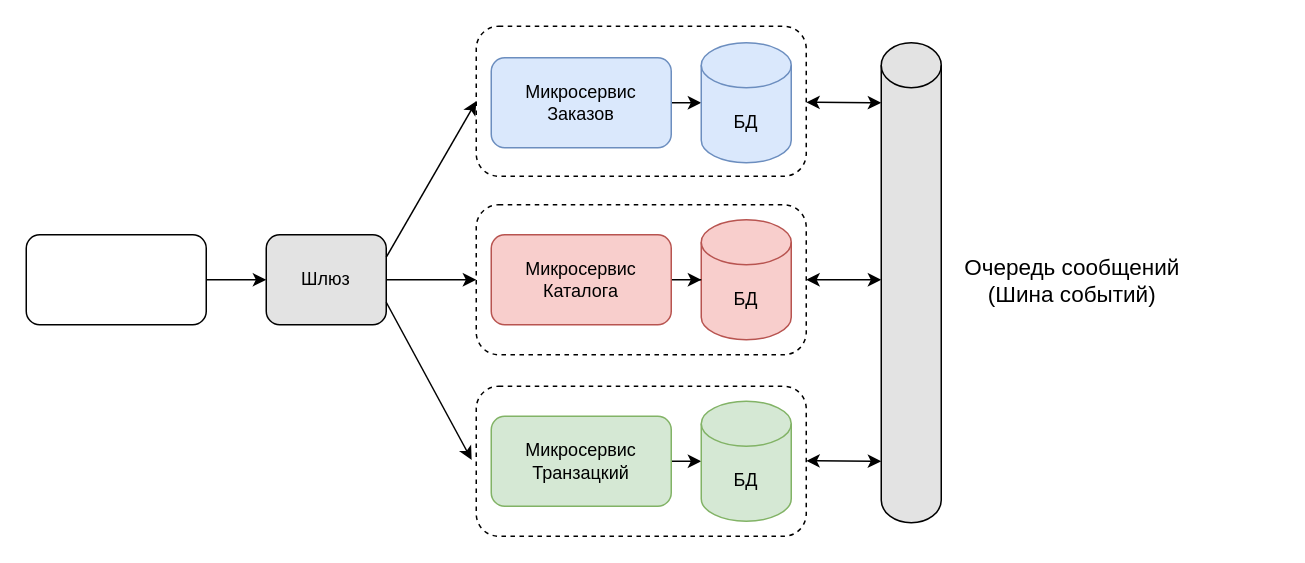
The diagram is 1305 pixels wide and 563 high, and some of its shapes have lost their labels. Each missing label, with the centre of its shape:
Очередь сообщений: [910,282]
Пользовательский Интерфейс: [115,279]
